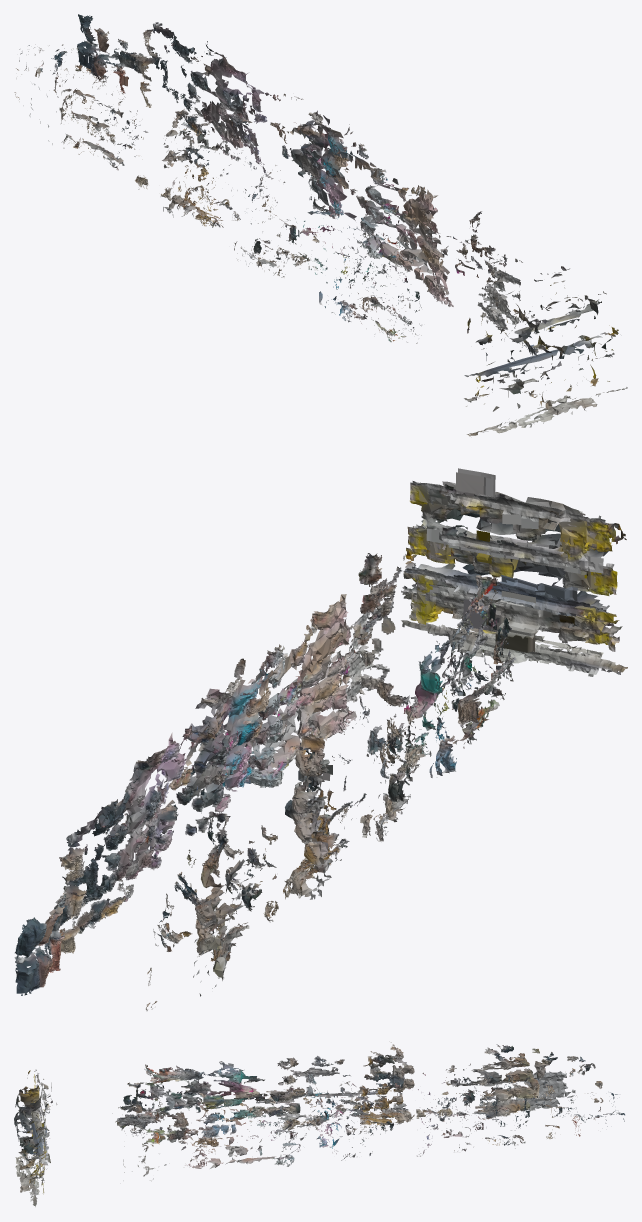
Rendered from surfaces-0.glb.
The picture shows the model from 3 angles, top to bottom: view 1: azimuth 30°, elevation 25°; view 2: azimuth 150°, elevation 25°; view 3: azimuth 270°, elevation 25°; orthographic projection. The views are drawn at different scales.
Visible parts, largest first — view 1: obj-0-299, obj-0-863, obj-0-954, obj-0-678, obj-0-330, obj-0-918, obj-0-752, obj-0-684, obj-0-1017; view 2: obj-0-299, obj-0-954, obj-0-863, obj-0-345, obj-0-918, obj-0-829, obj-0-678, obj-0-104, obj-0-684, obj-0-90, obj-0-111, obj-0-752 (+5 smaller); view 3: obj-0-684, obj-0-905, obj-0-954, obj-0-899, obj-0-299, obj-0-864, obj-0-752, obj-0-863, obj-0-918, obj-0-984, obj-0-873, obj-0-345.
Boxes of the visible parts, left/top/right/bottom form: obj-0-299: left=290, top=110, right=450, bottom=304; obj-0-863: left=163, top=29, right=353, bottom=190; obj-0-954: left=475, top=273, right=612, bottom=414; obj-0-678: left=77, top=15, right=175, bottom=91; obj-0-330: left=396, top=206, right=513, bottom=329; obj-0-918: left=467, top=387, right=627, bottom=436; obj-0-752: left=162, top=127, right=220, bottom=217; obj-0-684: left=23, top=49, right=148, bottom=162; obj-0-1017: left=470, top=239, right=526, bottom=347; obj-0-299: left=182, top=594, right=356, bottom=807; obj-0-954: left=416, top=468, right=608, bottom=640; obj-0-863: left=87, top=679, right=260, bottom=879; obj-0-345: left=401, top=481, right=626, bottom=651; obj-0-918: left=401, top=620, right=627, bottom=676; obj-0-829: left=425, top=584, right=599, bottom=652; obj-0-678: left=14, top=809, right=102, bottom=995; obj-0-104: left=415, top=472, right=608, bottom=530; obj-0-684: left=174, top=822, right=266, bottom=996; obj-0-90: left=404, top=566, right=603, bottom=616; obj-0-111: left=431, top=526, right=612, bottom=573; obj-0-752: left=285, top=743, right=341, bottom=899; obj-0-684: left=450, top=1050, right=575, bottom=1118; obj-0-905: left=144, top=1067, right=297, bottom=1117; obj-0-954: left=14, top=1075, right=50, bottom=1181; obj-0-899: left=131, top=1082, right=198, bottom=1142; obj-0-299: left=185, top=1083, right=373, bottom=1168; obj-0-864: left=256, top=1058, right=399, bottom=1129; obj-0-752: left=369, top=1055, right=413, bottom=1122; obj-0-863: left=309, top=1069, right=502, bottom=1137; obj-0-918: left=15, top=1152, right=39, bottom=1206; obj-0-984: left=117, top=1091, right=162, bottom=1130; obj-0-873: left=234, top=1102, right=300, bottom=1117; obj-0-345: left=24, top=1069, right=47, bottom=1192.
Bounding box in the file's own units: 4.9 × 3.43 × 16.78.
